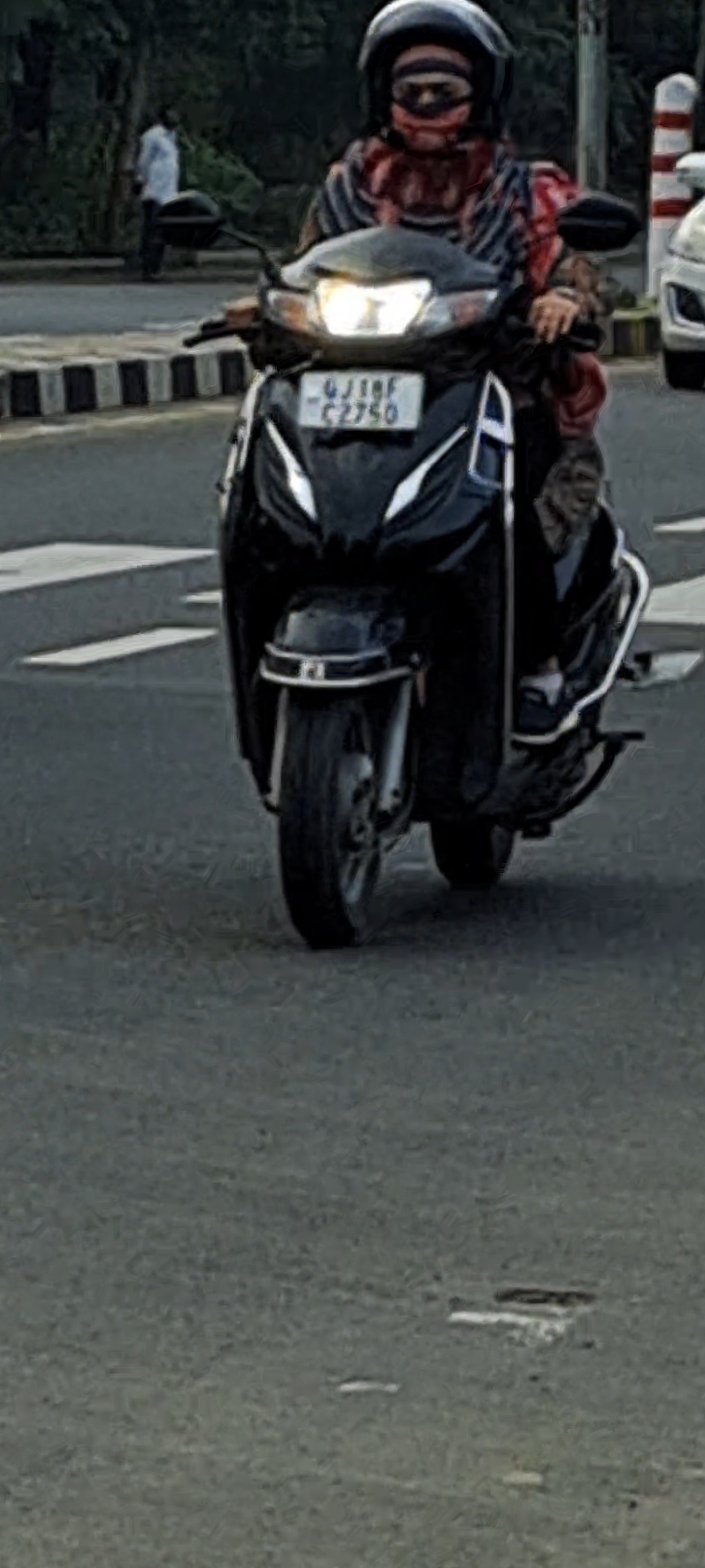BikeWithRider: (151, 0, 704, 960)
Helmet: (343, 0, 517, 176)
